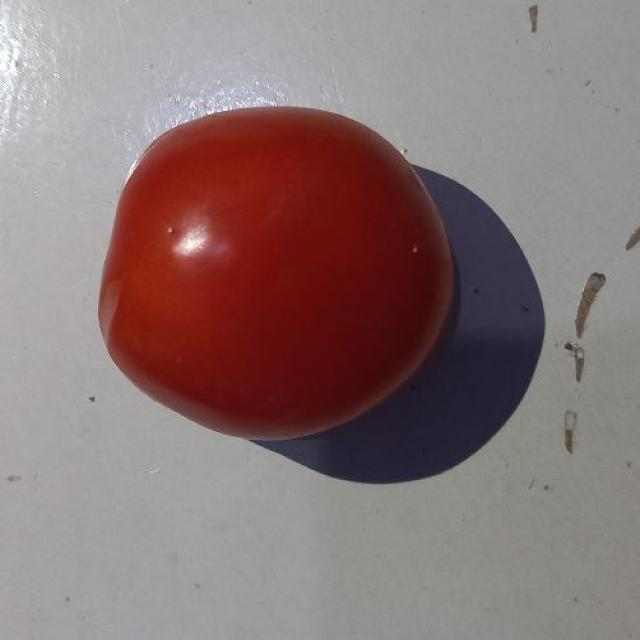ripe tomato: (101, 96, 468, 472)
